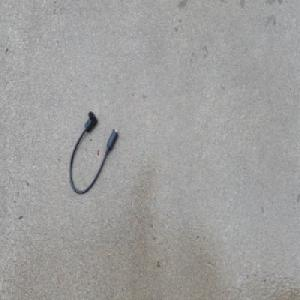Wire: (69, 109, 118, 196)
